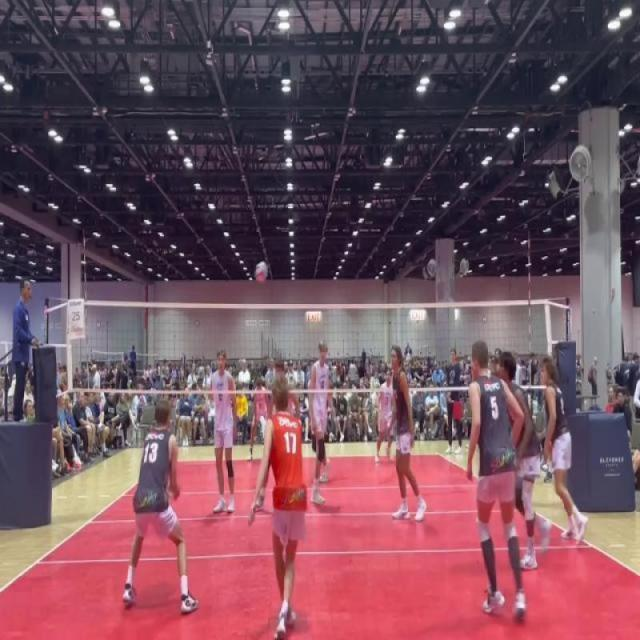volleyball: (254, 258, 268, 284)
